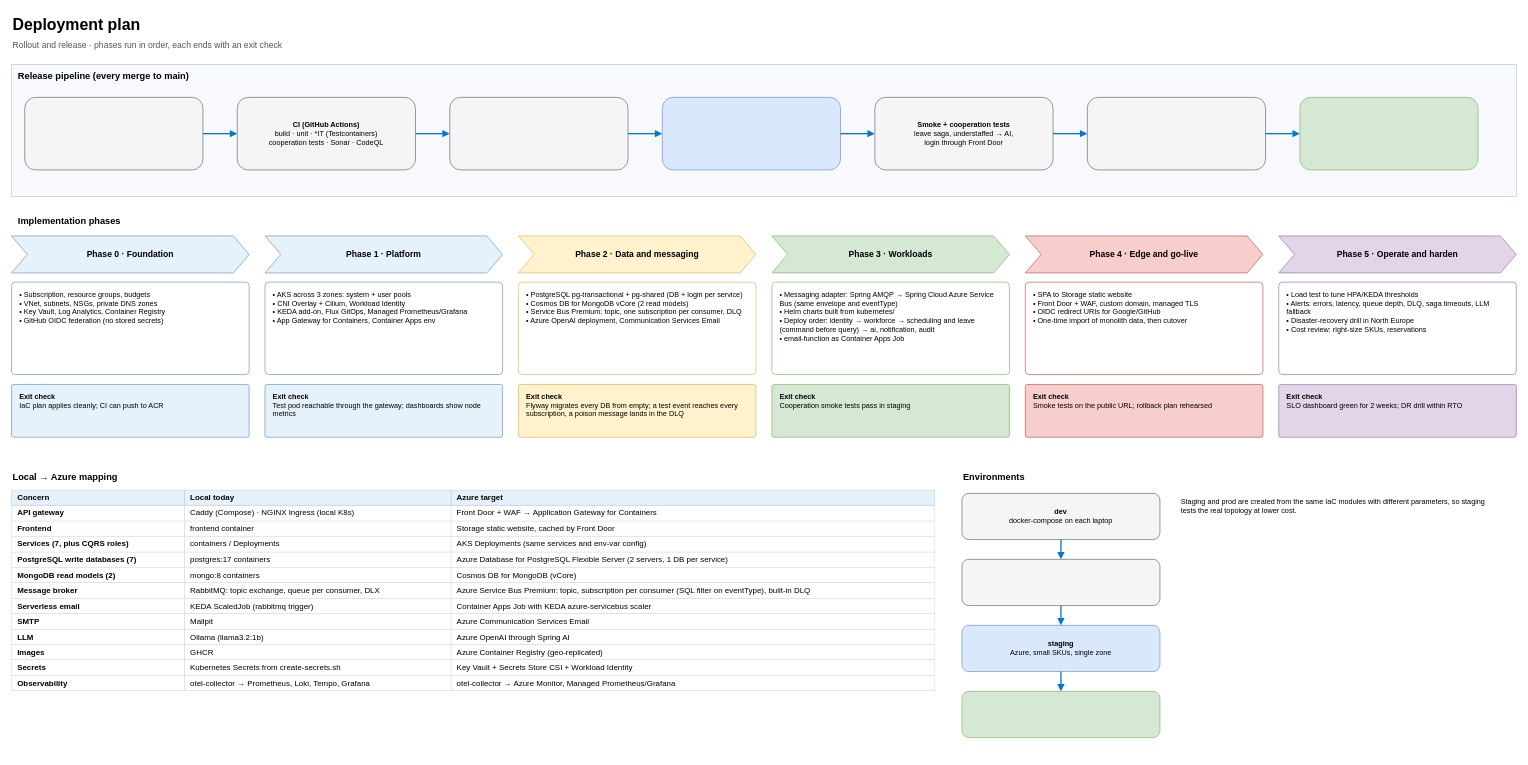
This 1528x765 diagram has some shape labels left out. Each missing label, with the box of its shape:
Image Trivy scan, then push to ACR tag: semver + git SHA: (449, 97, 628, 170)
Manual approval GitHub environment protection rule: (1087, 97, 1266, 170)
prod Azure, zone-redundant, DR region: (961, 691, 1160, 738)
Production rolling update per service rollback = previous tag in Git: (1299, 97, 1478, 170)
Pull request feat/fix branch review by owners: (24, 97, 203, 170)
Staging (Azure) Flux applies the new tag smaller SKUs, single zone: (662, 97, 841, 170)
test CI: Testcontainers + local Kubernetes: (961, 559, 1160, 606)
